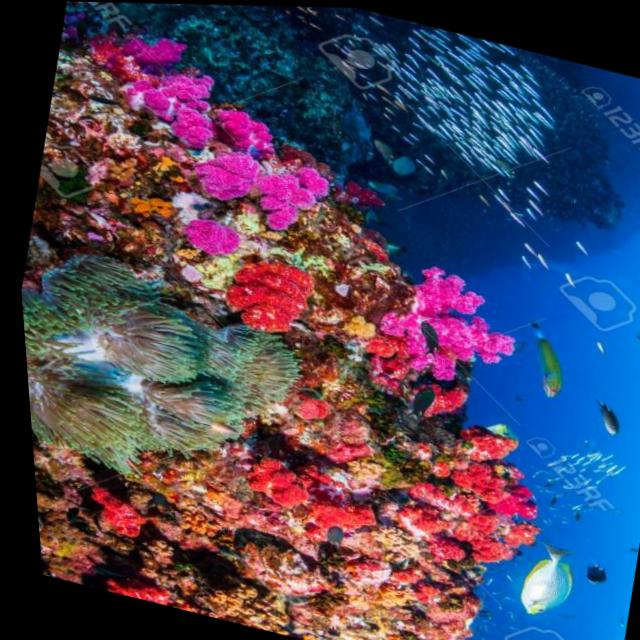Healthy Coral: (1, 10, 610, 640)
